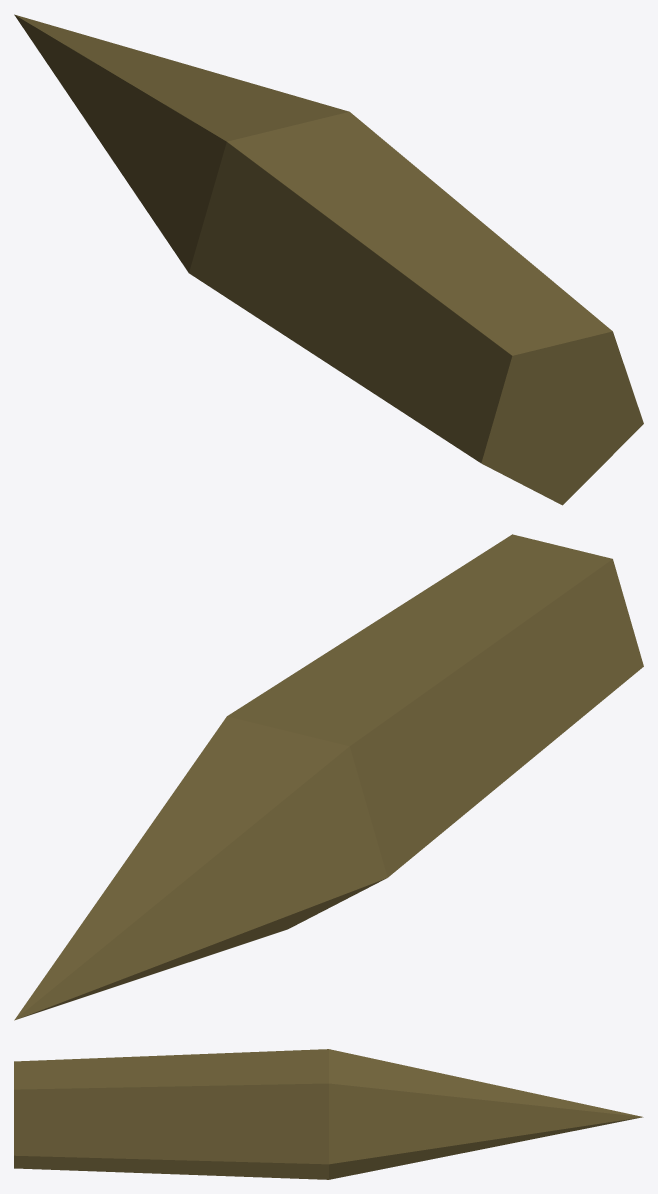
Rendered from Shell.glb.
The picture shows the model from 3 angles, top to bottom: view 1: azimuth 30°, elevation 25°; view 2: azimuth 150°, elevation 25°; view 3: azimuth 270°, elevation 25°; orthographic projection. The views are drawn at different scales.
Parts seen in each view (by area): view 1: Cone; view 2: Cone; view 3: Cone.
Part boxes in pixels (x1,y1,x2,y2): Cone: (14, 14, 643, 505); Cone: (14, 534, 643, 1020); Cone: (14, 1049, 643, 1179).
Bounding box in the file's own units: 0.1046 × 0.0995 × 0.5.
